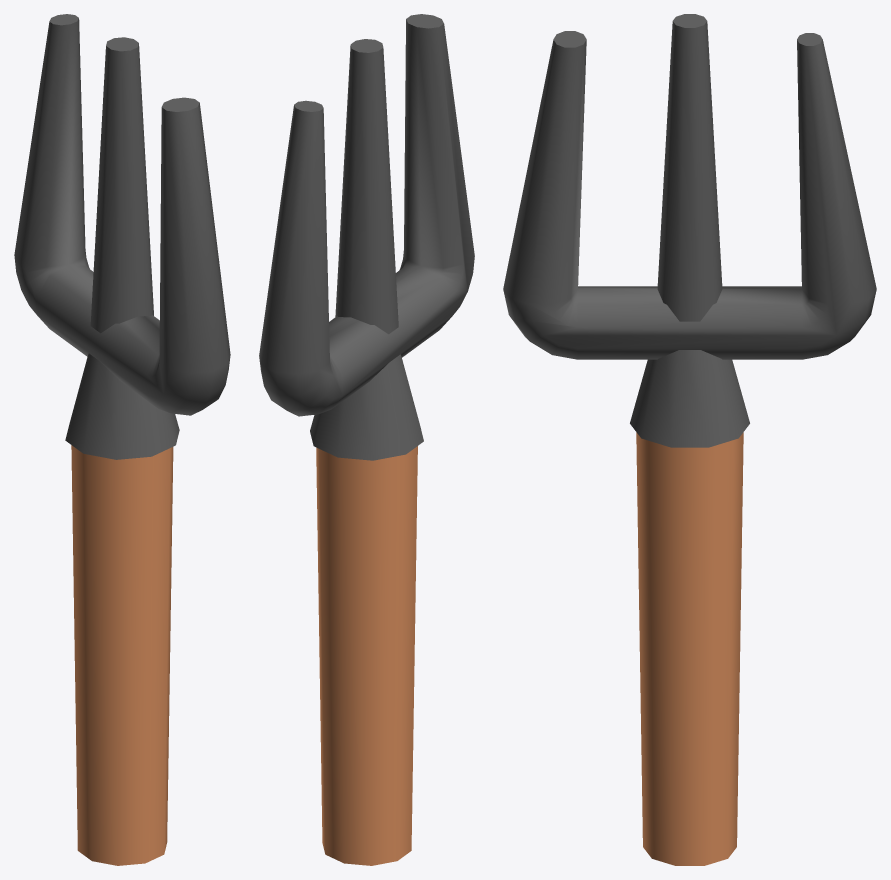
File: Pitchfork.fbx
3 views of the same model, side by side, from view 1: azimuth 30°, elevation 25°; view 2: azimuth 150°, elevation 25°; view 3: azimuth 270°, elevation 25° (orthographic). The views are drawn at different scales.
Parts seen in each view (by area): view 1: Pitchfork; view 2: Pitchfork; view 3: Pitchfork.
Part boxes in pixels (bbox=[...]): Pitchfork: bbox=[14, 14, 230, 865]; Pitchfork: bbox=[259, 14, 474, 865]; Pitchfork: bbox=[503, 14, 876, 865].
Size of the model in its own units: 16.76 by 133 by 54.66.
